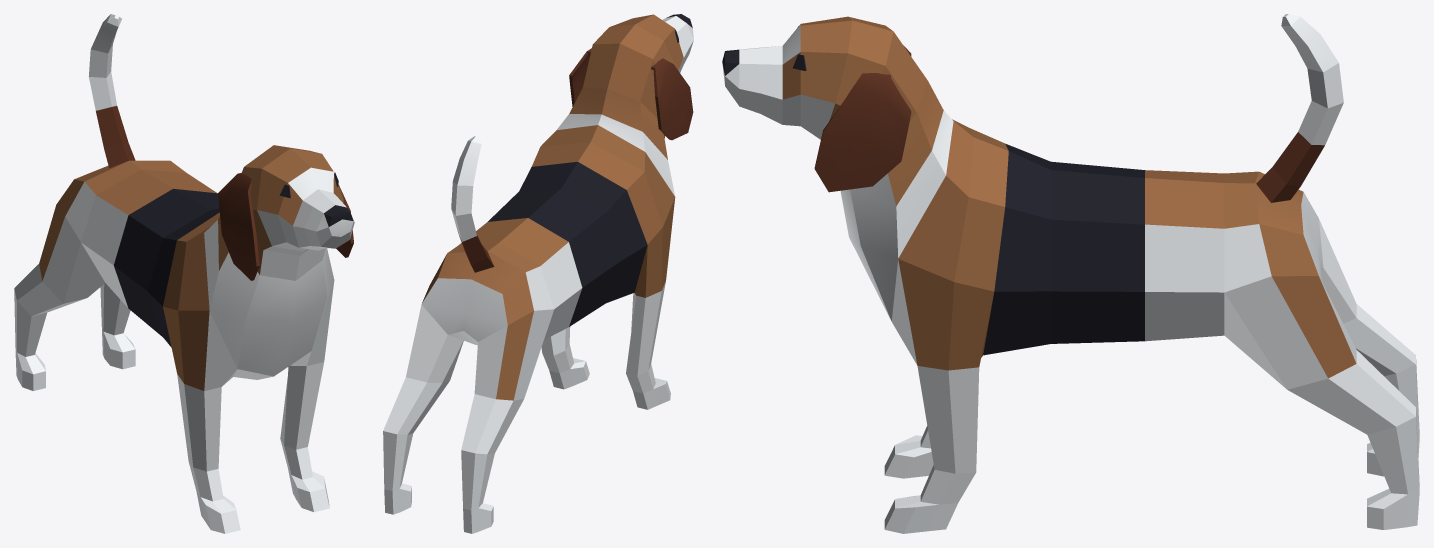
File: Beagle.glb
3 views of the same model, side by side, from view 1: azimuth 30°, elevation 25°; view 2: azimuth 150°, elevation 25°; view 3: azimuth 270°, elevation 25° (orthographic). The views are drawn at different scales.
Visible parts, largest first — view 1: node-0; view 2: node-0; view 3: node-0.
Part boxes in pixels (x1,y1,x2,y2): node-0: [14, 14, 354, 533]; node-0: [383, 14, 693, 533]; node-0: [722, 14, 1419, 533].
Bounding box in the file's own units: 30.18 × 78.26 × 102.
1 material, 1 textured.
